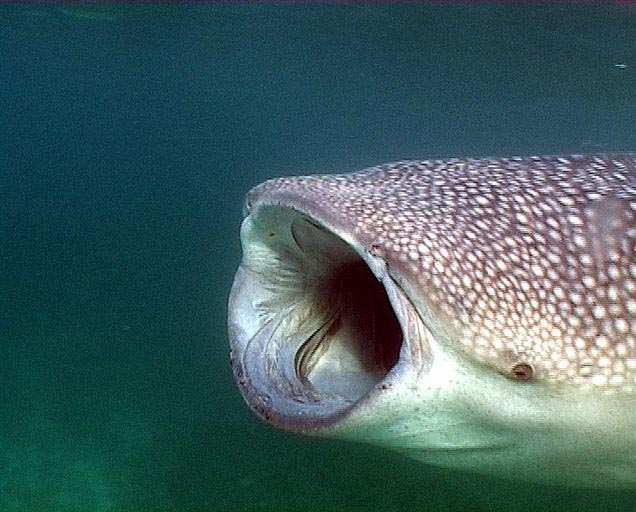Rhincodon_typusw: (198, 123, 636, 481)
